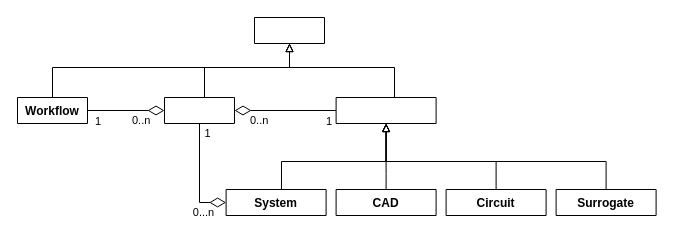
The diagram is 674 pixels wide and 236 high, and some of its shapes have lost their labels. The shapes that lost their labels are listed below. From the top down, each one's centre as x and y in pixels, then its label:
(x=289, y=30): Entity
(x=199, y=110): Model
(x=385, y=110): Representation
